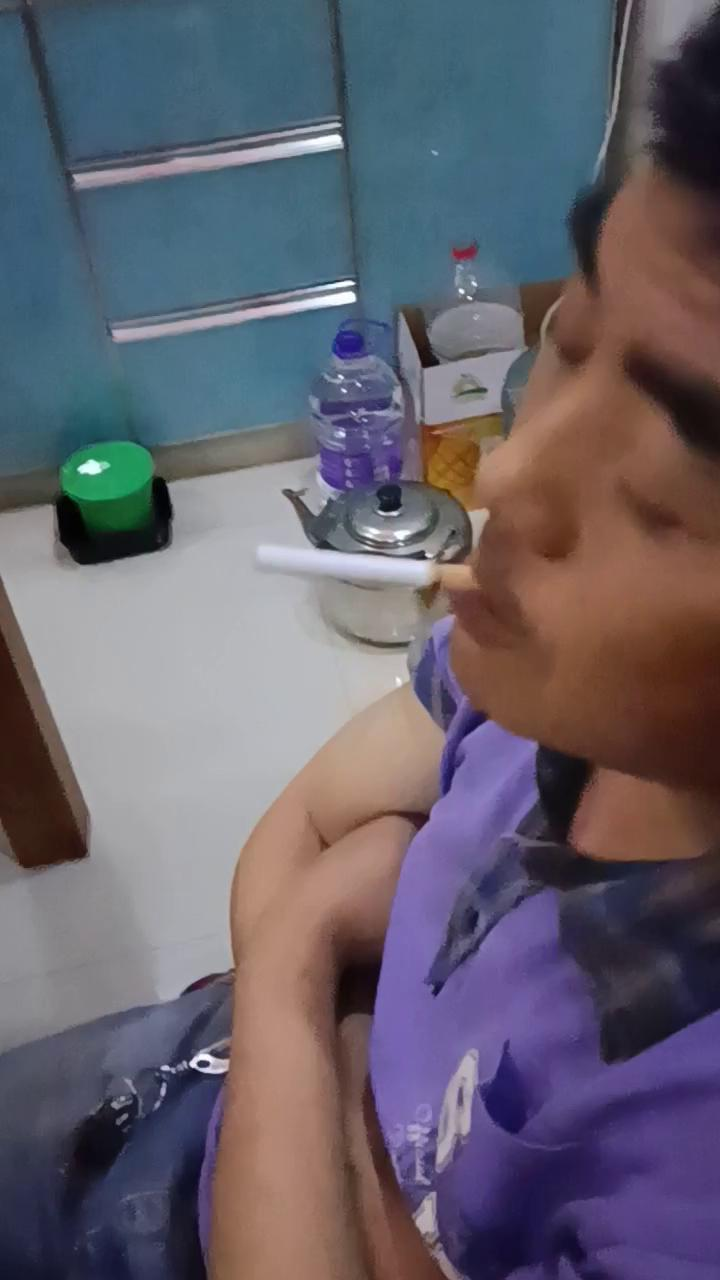smoke: (256, 546, 480, 596)
